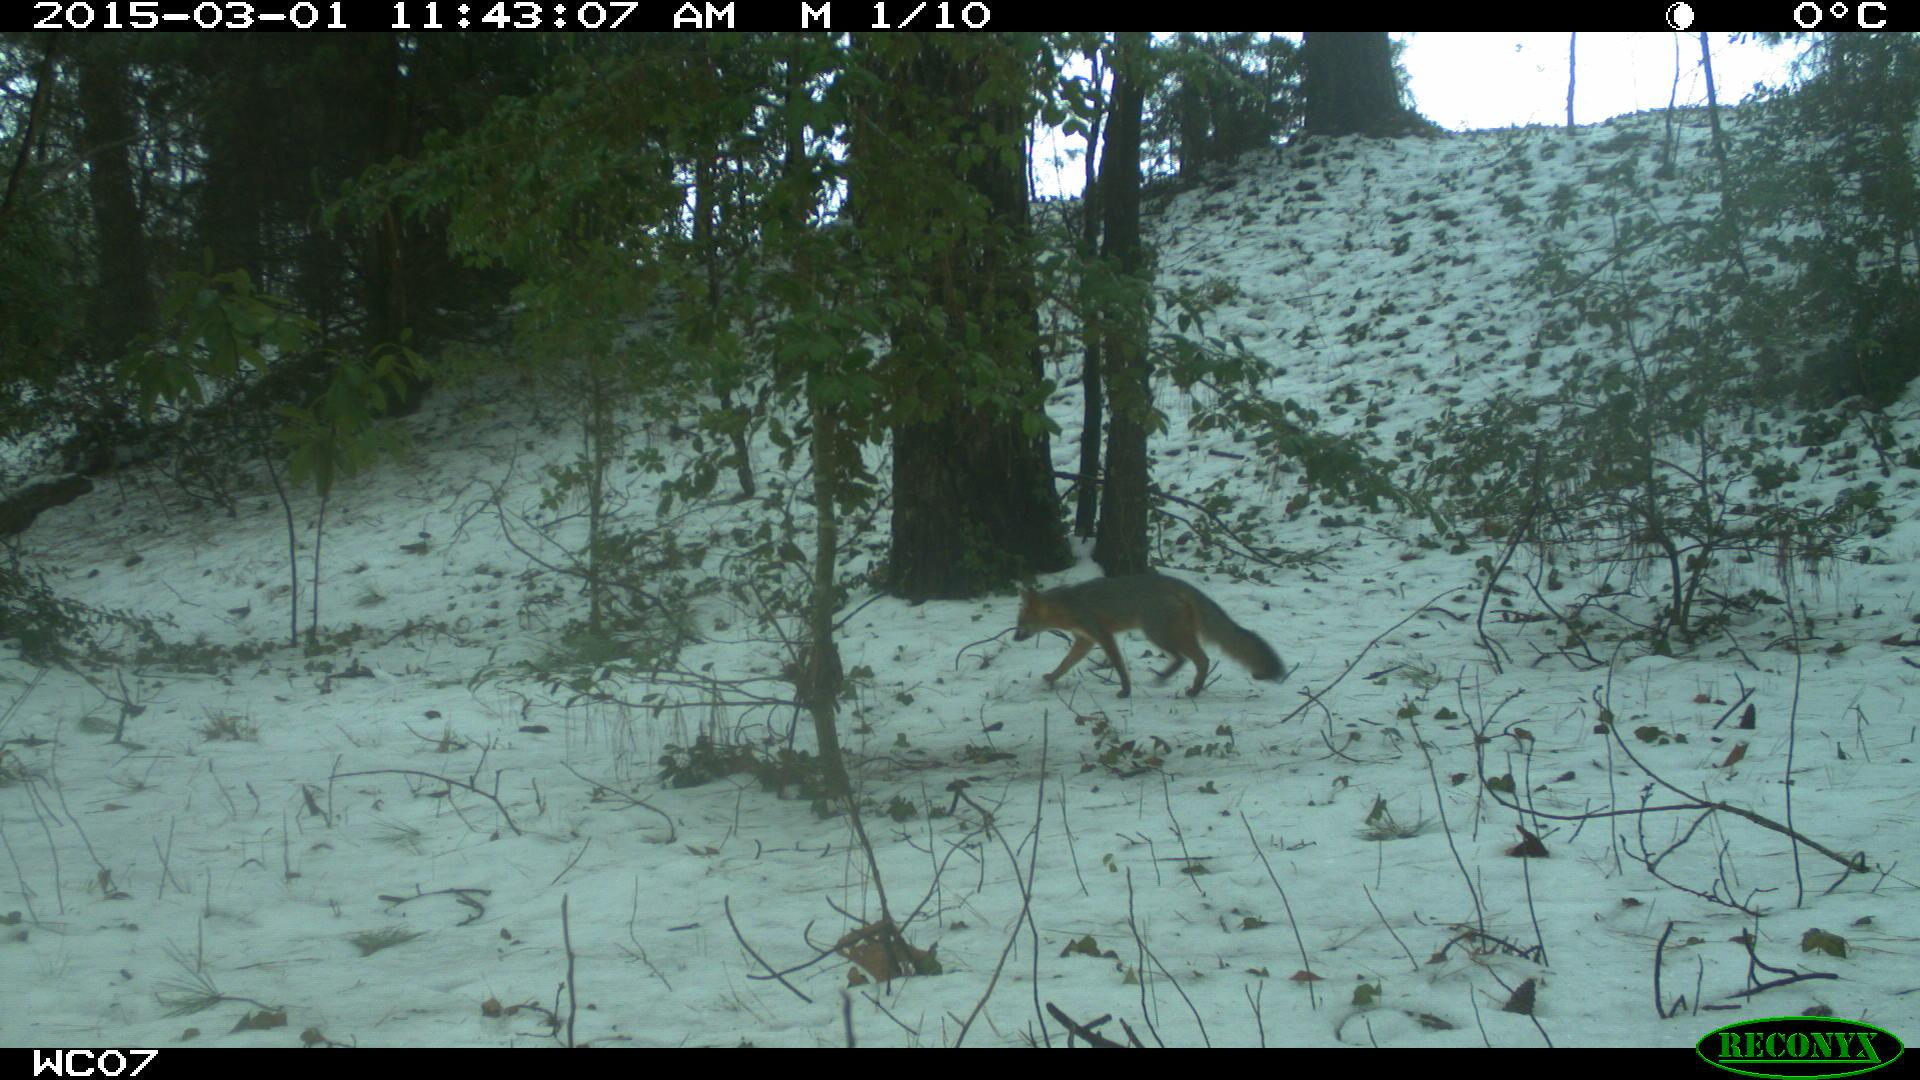Animal: (1011, 572, 1284, 699)
